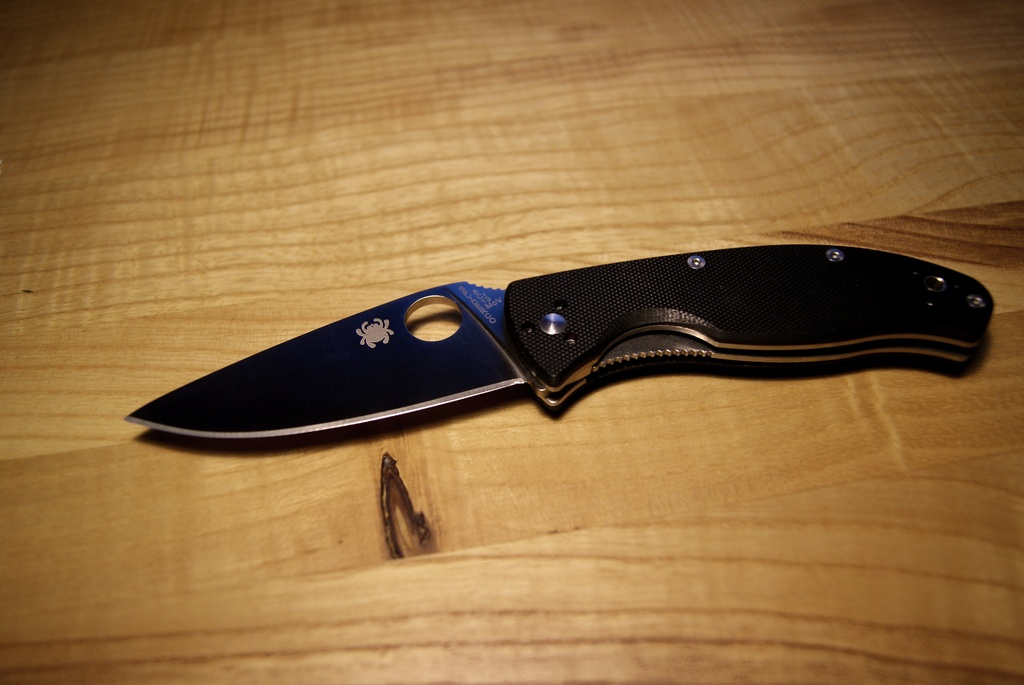knife: (124, 244, 992, 437)
